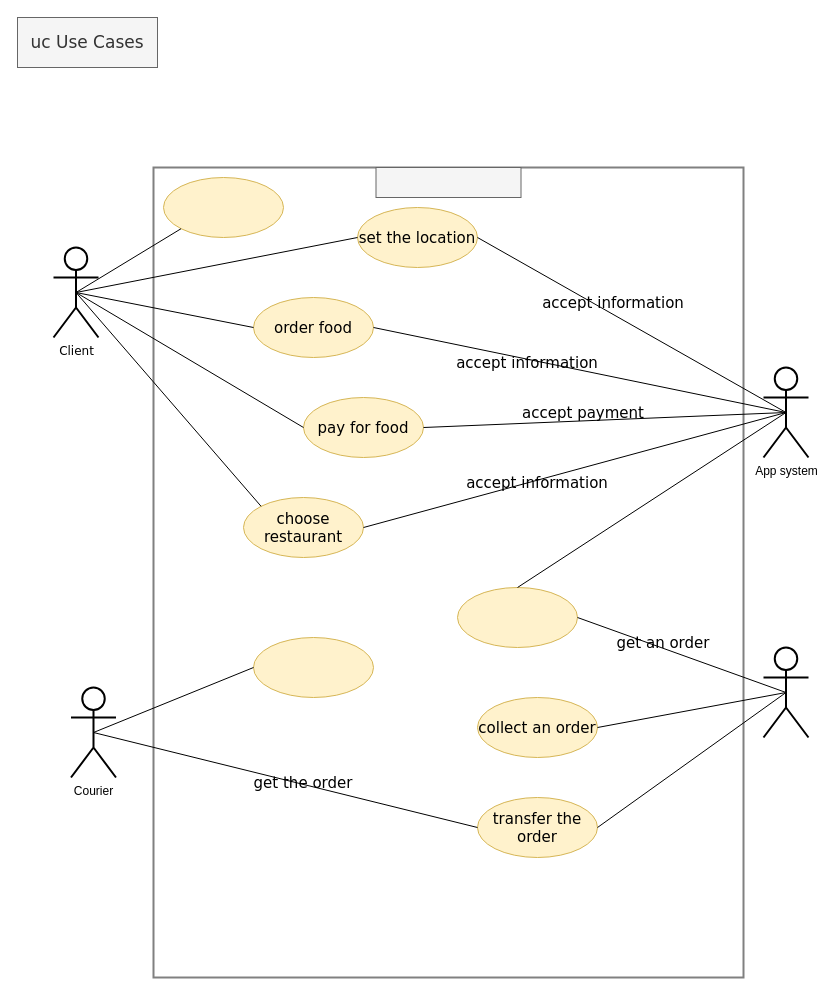
The diagram is 836 pixels wide and 996 high, and some of its shapes have lost their labels. Here are the shapes that lost their labels. From the top down, the centre of each, then its label:
At point (448, 182): "System boundary".
At point (223, 207): "eat food".
At point (517, 617): "create a request".
At point (313, 667): "deliver the order".
At point (785, 692): "Restaurant".
